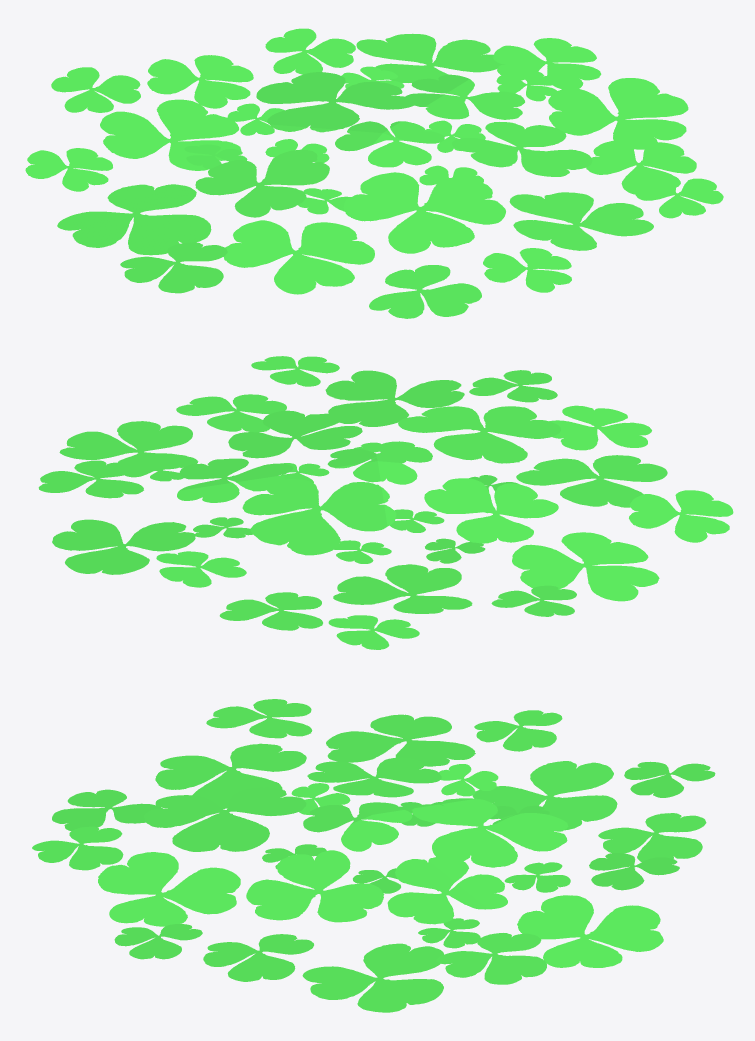
Rendered from Clover.fbx.
The picture shows the model from 3 angles, top to bottom: view 1: azimuth 30°, elevation 25°; view 2: azimuth 150°, elevation 25°; view 3: azimuth 270°, elevation 25°; orthographic projection. The views are drawn at different scales.
Visible parts, largest first — view 1: Clover; view 2: Clover; view 3: Clover.
Boxes of the visible parts, x1,y1,x2,y2 form: Clover: (25,28,723,318); Clover: (38,356,733,649); Clover: (32,699,715,1012).
Bounding box in the file's own units: 0.6588 × 0.0471 × 0.6983.
